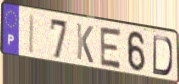6: (126, 30, 147, 75)
7: (49, 16, 69, 60)
D: (151, 33, 174, 77)
E: (99, 25, 123, 71)
I: (28, 13, 36, 57)
K: (76, 22, 95, 66)
